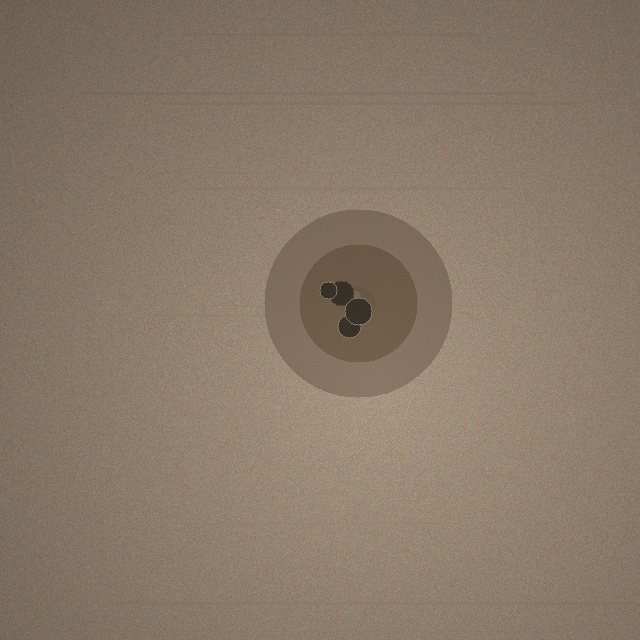shrinkage: (264, 209, 452, 397)
